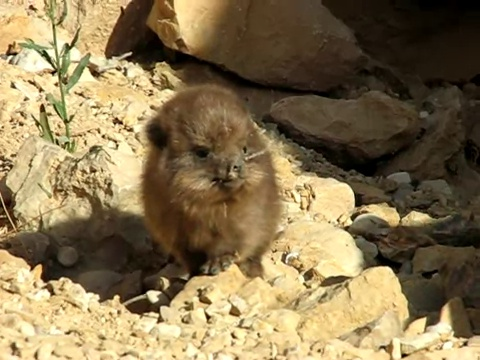Rock Hyrex: (143, 83, 279, 281)
